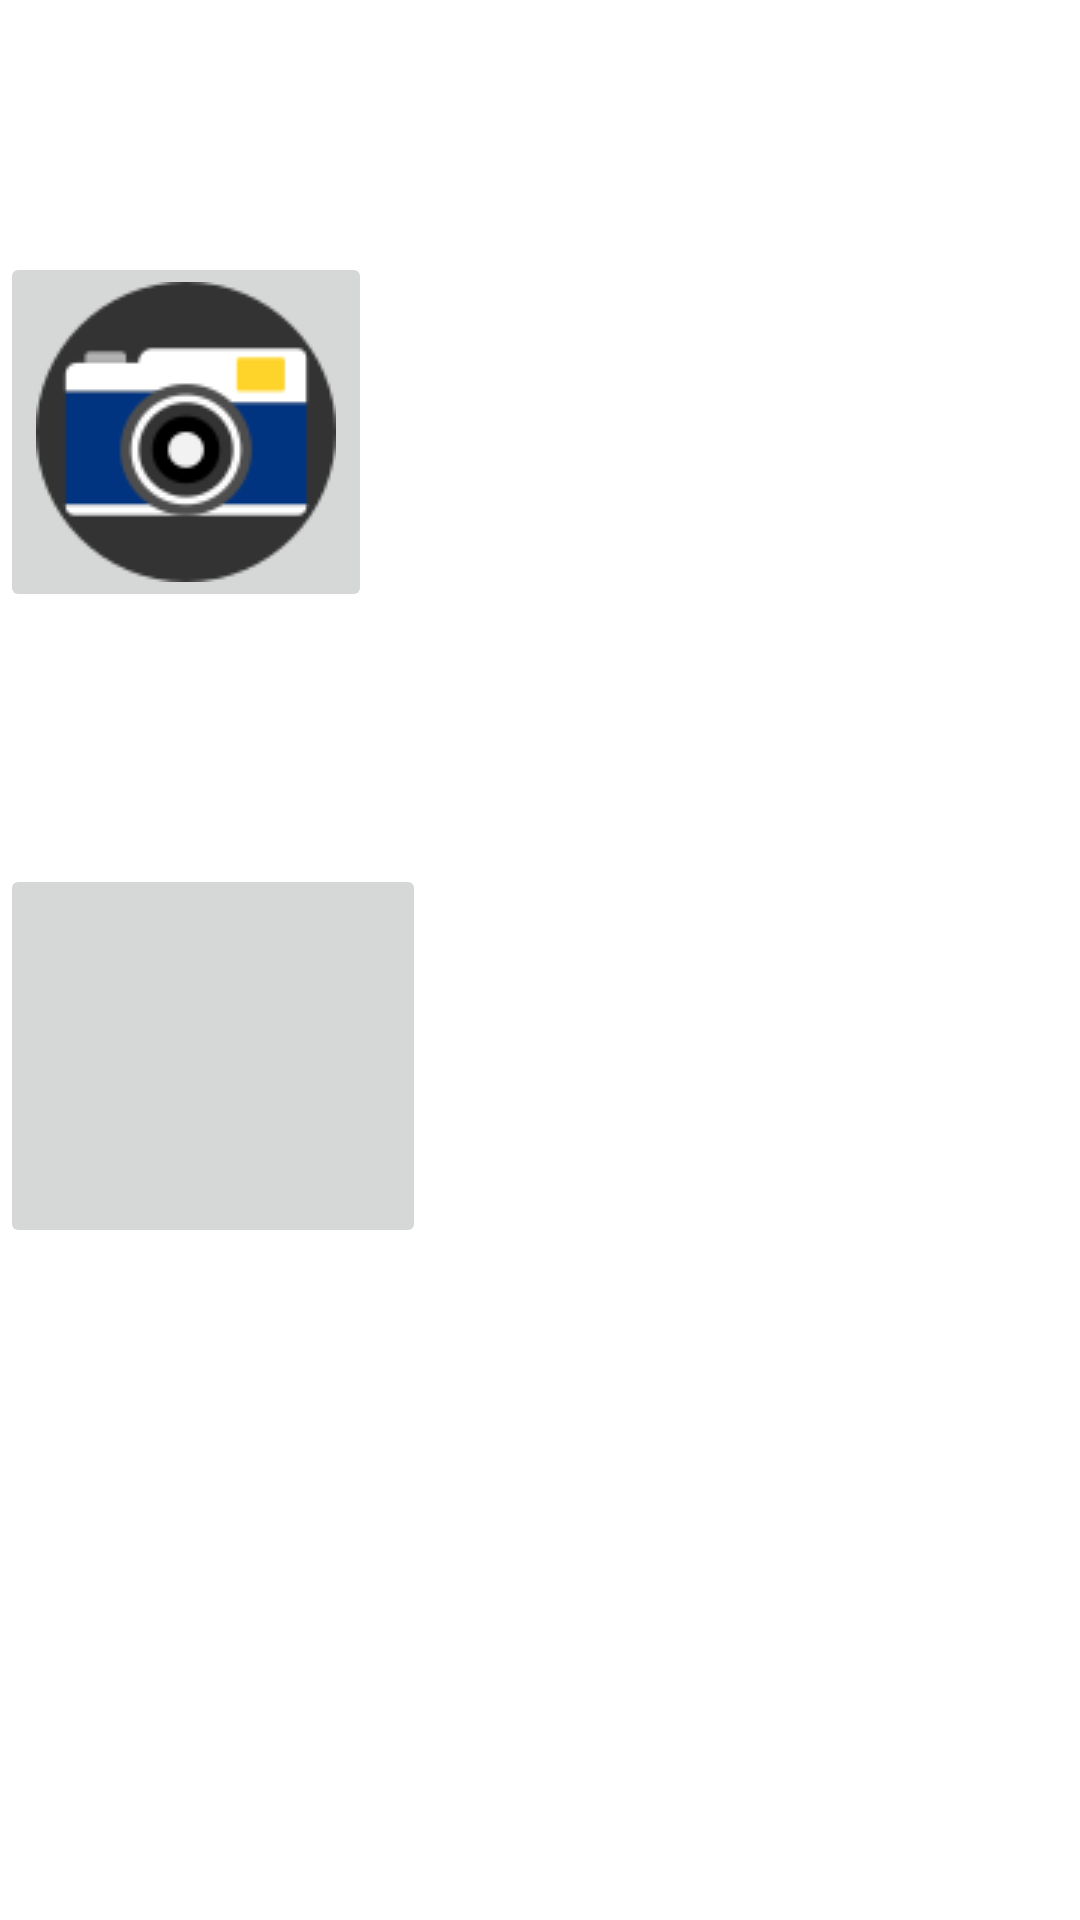

Named icons in this screenshot (1080w x 1920h) and their bounding boxes, (x1, y1, x2, y2):
camera: (12, 270, 360, 594)
